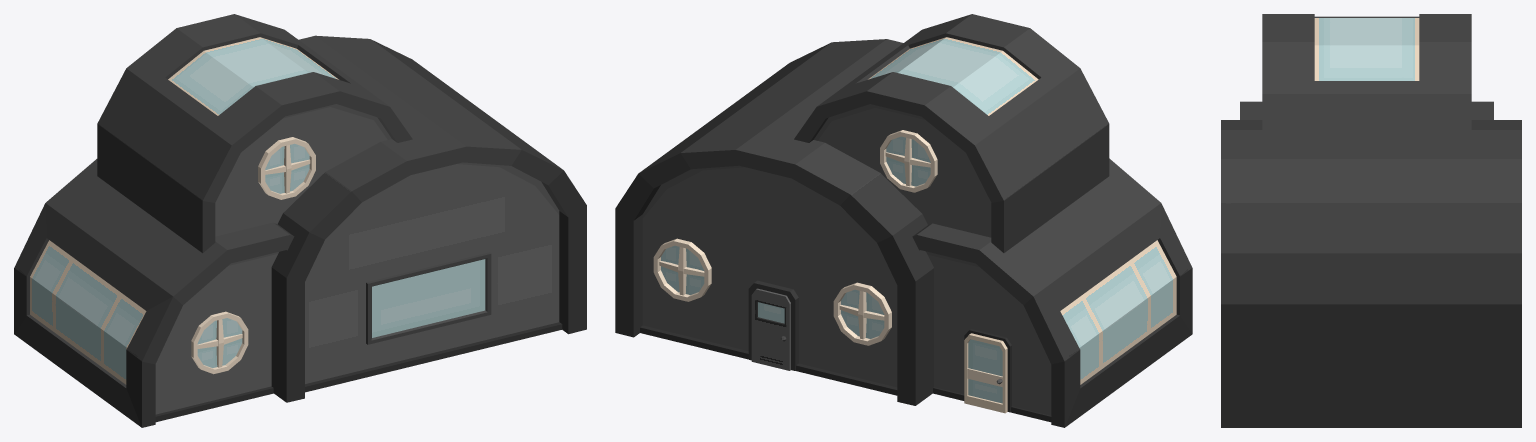
File: W.H_grey.fix.gltf
3 views of the same model, side by side, from view 1: azimuth 30°, elevation 25°; view 2: azimuth 150°, elevation 25°; view 3: azimuth 270°, elevation 25° (orthographic).
Visible parts, largest first — view 1: mesh; view 2: mesh; view 3: mesh.
Boxes of the visible parts, x1,y1,x2,y2 form: mesh: (14, 14, 586, 427); mesh: (615, 14, 1192, 427); mesh: (1221, 14, 1521, 427).
Size of the model in its own units: 21.65 by 13.19 by 13.
Materials: 1 (1 with a texture image).
